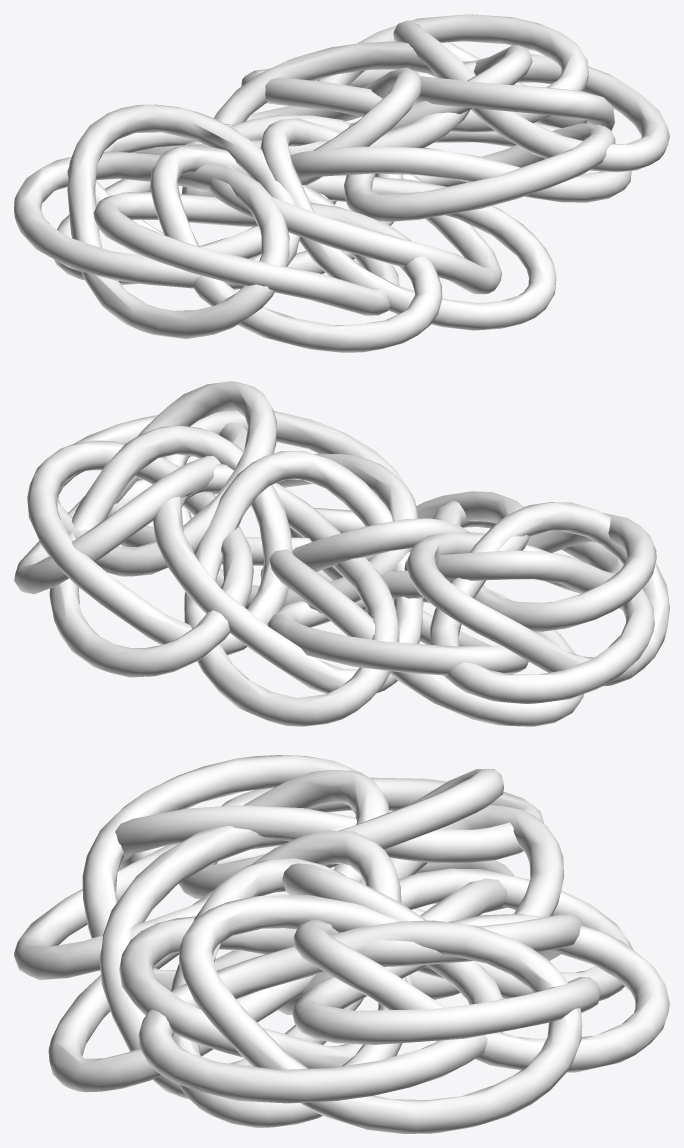
File: noddle.gltf
The picture shows the model from 3 angles, top to bottom: view 1: azimuth 30°, elevation 25°; view 2: azimuth 150°, elevation 25°; view 3: azimuth 270°, elevation 25°; orthographic projection. The views are drawn at different scales.
Parts seen in each view (by area): view 1: Torus Knot 2 x 3; view 2: Torus Knot 2 x 3; view 3: Torus Knot 2 x 3.
Boxes of the visible parts, x1=… form: Torus Knot 2 x 3: x1=14, y1=14, x2=669, y2=352; Torus Knot 2 x 3: x1=14, y1=381, x2=669, y2=726; Torus Knot 2 x 3: x1=14, y1=755, x2=669, y2=1133.
Bounding box in the file's own units: 1.54 × 0.4603 × 1.25.
Materials: 1 (1 with a texture image).
